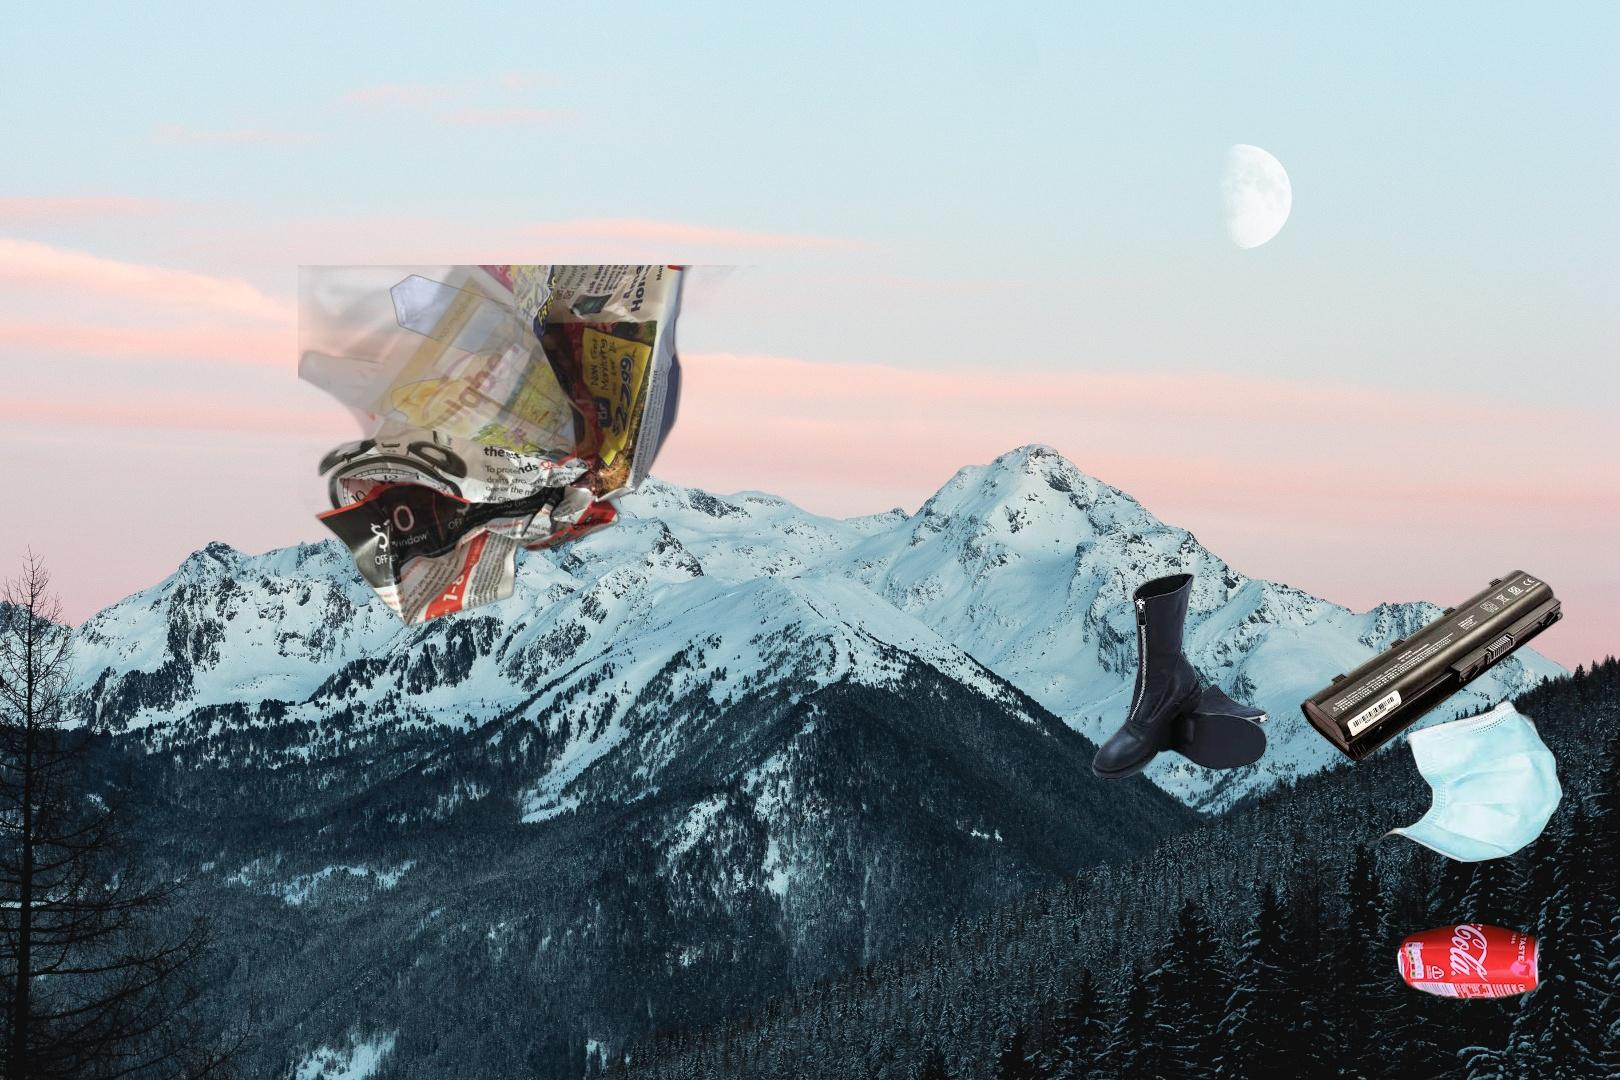battery: (1301, 570, 1563, 762)
metal-cans: (1392, 915, 1620, 1080)
paper: (298, 265, 764, 630)
plastic-bag: (388, 272, 611, 552)
shoes: (1088, 570, 1270, 783)
trash: (1364, 697, 1566, 865)
